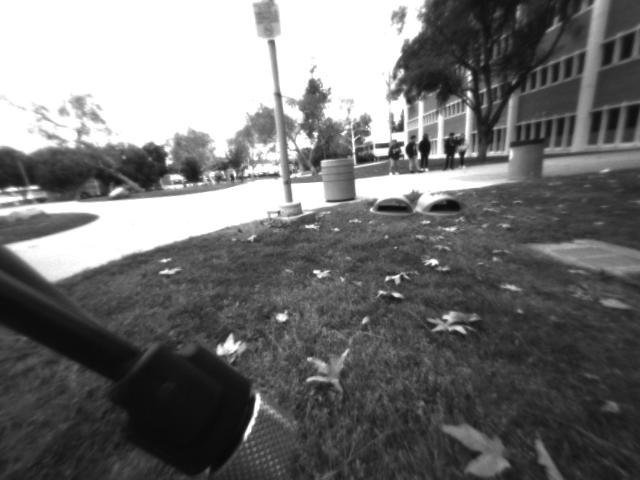trashcan: (314, 151, 359, 206), (505, 134, 547, 185)
